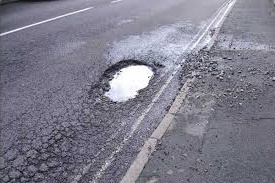pothole: (85, 58, 160, 108)
